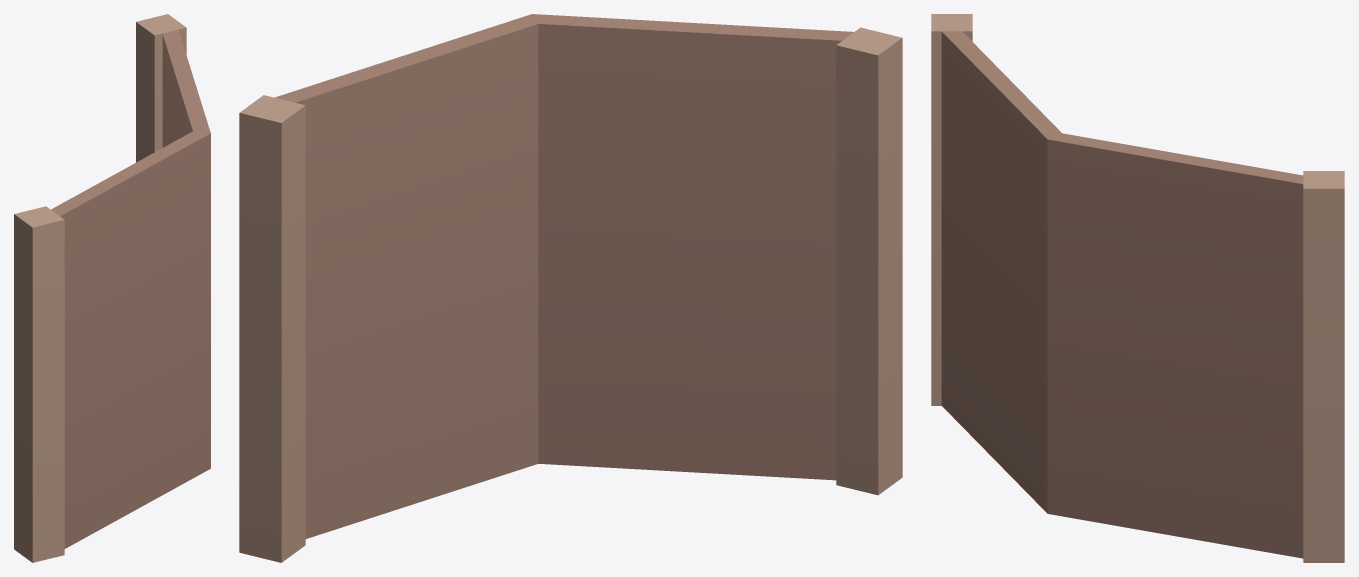
Rendered from wall-wood-corner-edge.glb.
3 views of the same model, side by side, from view 1: azimuth 30°, elevation 25°; view 2: azimuth 150°, elevation 25°; view 3: azimuth 270°, elevation 25° (orthographic). The views are drawn at different scales.
Parts seen in each view (by area): view 1: wall-wood-corner-edge; view 2: wall-wood-corner-edge; view 3: wall-wood-corner-edge.
Boxes of the visible parts, left/top/right/bottom form: wall-wood-corner-edge: left=14, top=14, right=210, bottom=562; wall-wood-corner-edge: left=239, top=14, right=902, bottom=562; wall-wood-corner-edge: left=931, top=14, right=1344, bottom=562.
Size of the model in its own units: 1 by 1 by 1.
